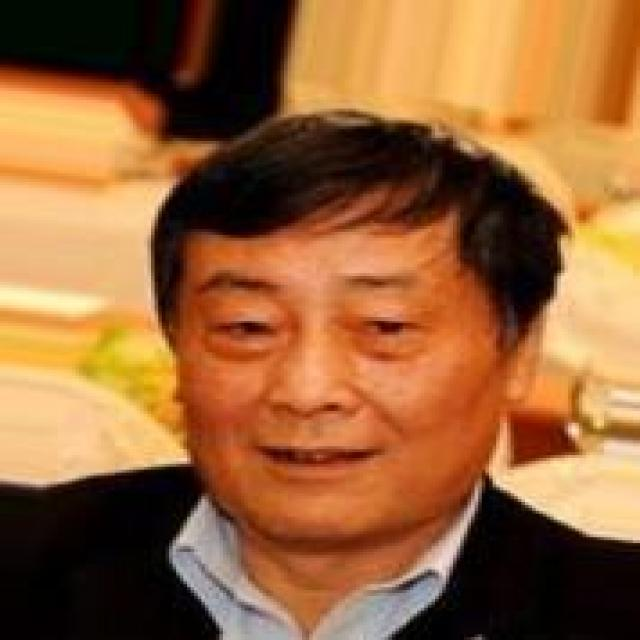nomask: (147, 156, 554, 552)
